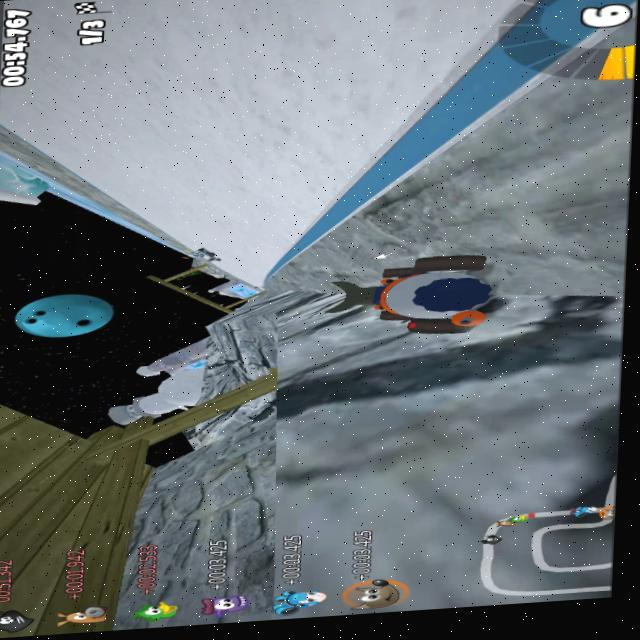enemy_kart: (191, 240, 228, 264)
player_kart: (323, 245, 517, 341)
